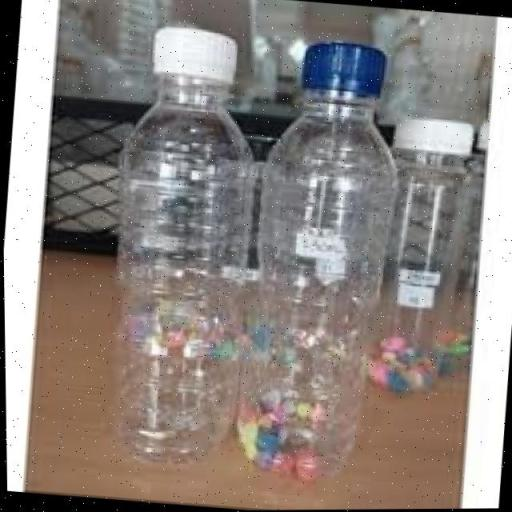plastic: (84, 7, 270, 463), (229, 36, 411, 490)
